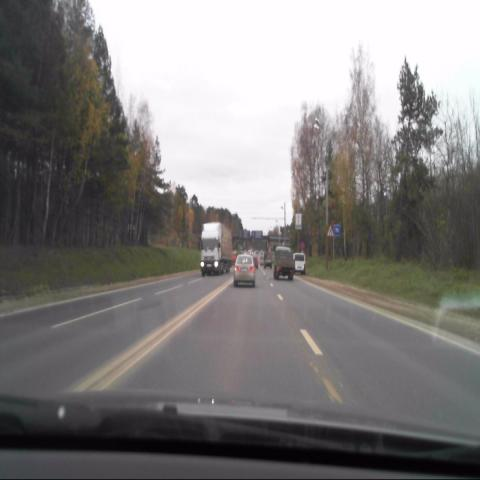1_20: (326, 226, 333, 238)
6_2: (334, 223, 342, 237)
